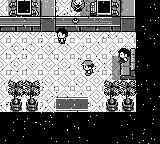main: (81, 61, 94, 76)
no-caminable: (1, 0, 160, 143), (7, 78, 43, 112), (102, 78, 136, 112), (0, 18, 40, 32), (86, 16, 121, 31), (8, 1, 41, 16), (90, 1, 120, 16), (121, 0, 135, 31), (41, 1, 55, 32), (56, 17, 71, 31)
npc: (118, 48, 130, 63), (56, 28, 68, 43), (70, 0, 85, 11)
puerta: (54, 97, 90, 111)
recuperarse: (70, 18, 86, 32)
